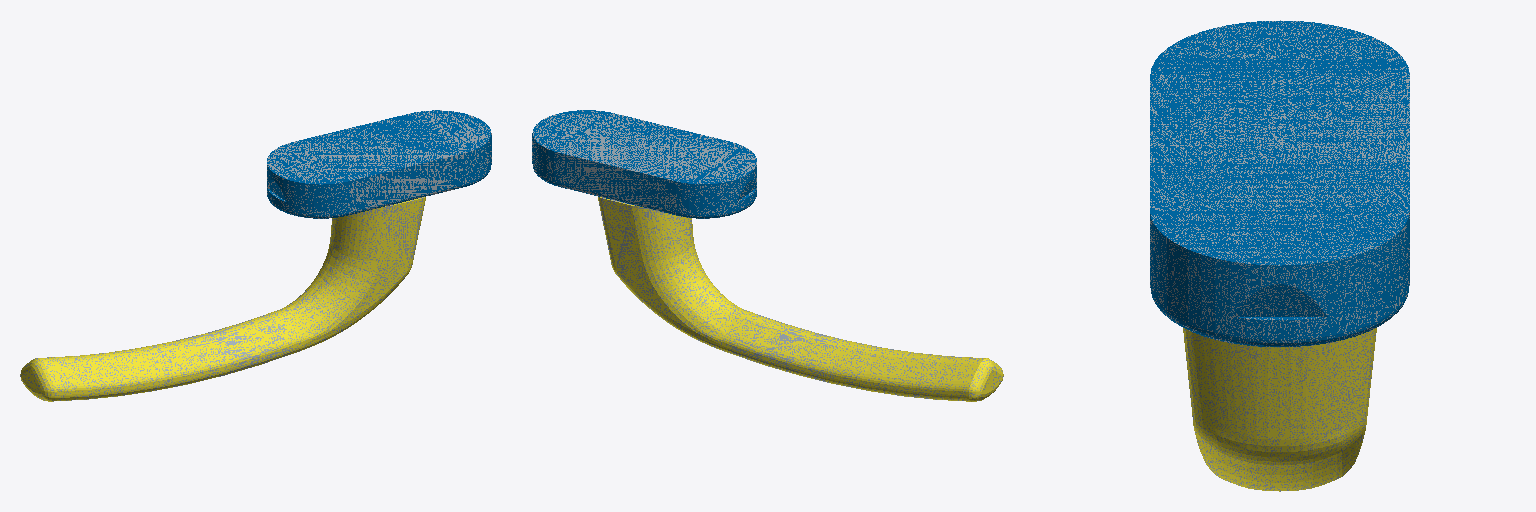
URDF robot description (window):
<?xml version="1.0" ?>
<robot name="window">
	<link name="base"/>
	<link name="link_0">
		<visual name="out-frame">
			<origin xyz="0 0 0"/>
			<geometry>
				<mesh filename="texture_dae/untitled.dae" scale="1 1 1"/>
			</geometry>
		</visual>
		<collision>
			<origin xyz="0 0 0"/>
			<geometry>
				<mesh filename="texture_dae/untitled.dae" scale="1 1 1"/>
			</geometry>
		</collision>
	</link>
	<joint name="joint_0" type="fixed">
		<origin rpy="1.570796326794897 0 -1.570796326794897" xyz="0 0 0"/>
		<child link="link_0"/>
		<parent link="base"/>
	</joint>
	<link name="link_1">
		<visual name="surf-board">
			<origin xyz="0.23565320670604706 -0.34836465252022536 0"/>
			<geometry>
				<mesh filename="texture_dae/untitled1.dae" scale="1 1 1"/>
			</geometry>
		</visual>
		<collision>
			<origin xyz="0.23565320670604706 -0.34836465252022536 0"/>
			<geometry>
				<mesh filename="texture_dae/untitled1.dae" scale="1 1 1"/>
			</geometry>
		</collision>
	</link>
	<joint name="joint_1" type="revolute">
		<origin xyz="-0.23565320670604706 0.34836465252022536 0"/>
		<axis xyz="0 -1 0"/>
		<child link="link_1"/>
		<parent link="link_0"/>
		<limit lower="0" upper="1.5079644737231006"/>
	</joint>
	<link name="link_2">
		<visual name="handle">
			<origin xyz="0 0 0"/>
			<geometry>
				<mesh filename="texture_dae/9969508-handle.dae" scale="1.2186174222383894 1.2186174222383894 1.2186174222383894"/>
			</geometry>
		</visual>
		<collision>
			<origin xyz="0 0 0"/>
			<geometry>
				<mesh filename="texture_dae/9969508-handle.dae" scale="1.2186174222383894 1.2186174222383894 1.2186174222383894"/>
			</geometry>
		</collision>
	</link>
	<joint name="joint_2" type="revolute">
		<origin xyz="0 0 0"/>
		<child link="link_2"/>
		<parent link="link_3"/>
		<axis xyz="0 0 1"/>
		<limit lower="0" upper="1.5079644737231006"/>
	</joint>
	<link name="link_3">
		<visual name="lock">
			<origin xyz="0 0 0"/>
			<geometry>
				<mesh filename="texture_dae/9969508-lock.dae" scale="1.2186174222383894 1.2186174222383894 1.2186174222383894"/>
			</geometry>
		</visual>
		<collision>
			<origin xyz="0 0 0"/>
			<geometry>
				<mesh filename="texture_dae/9969508-lock.dae" scale="1.2186174222383894 1.2186174222383894 1.2186174222383894"/>
			</geometry>
		</collision>
	</link>
	<joint name="joint_3" type="fixed">
		<origin xyz="0.44409596992656586 -0.34836465252022536 0.00917094583565014"/>
		<child link="link_3"/>
		<parent link="link_1"/>
	</joint>
</robot>

--- Facts derived from the render (not from the file) ---
Views: 3 orthographic renders of the robot side by side, from view 1: azimuth 30°, elevation 25°; view 2: azimuth 150°, elevation 25°; view 3: azimuth 270°, elevation 25°.
Robot: window — 5 links, 4 joints (2 revolute, 2 fixed); root link base; default pose: all joints at 0.
Links seen in each view (by area): view 1: link_2, link_3; view 2: link_2, link_3; view 3: link_3, link_2.
Boxes of the visible links, bbox=[...] form: link_2: bbox=[20, 197, 425, 401]; link_3: bbox=[267, 110, 491, 218]; link_2: bbox=[598, 197, 1003, 401]; link_3: bbox=[532, 110, 756, 218]; link_3: bbox=[1150, 20, 1409, 346]; link_2: bbox=[1183, 328, 1376, 491].
Size in the robot's own frame: 0.1758 by 0.0366 by 0.0681 metres.
Meshes: 4 distinct files referenced, 2 mesh visuals loaded (2 Collada DAE); not drawn: 2 (reference not matched to a file when rendering).
